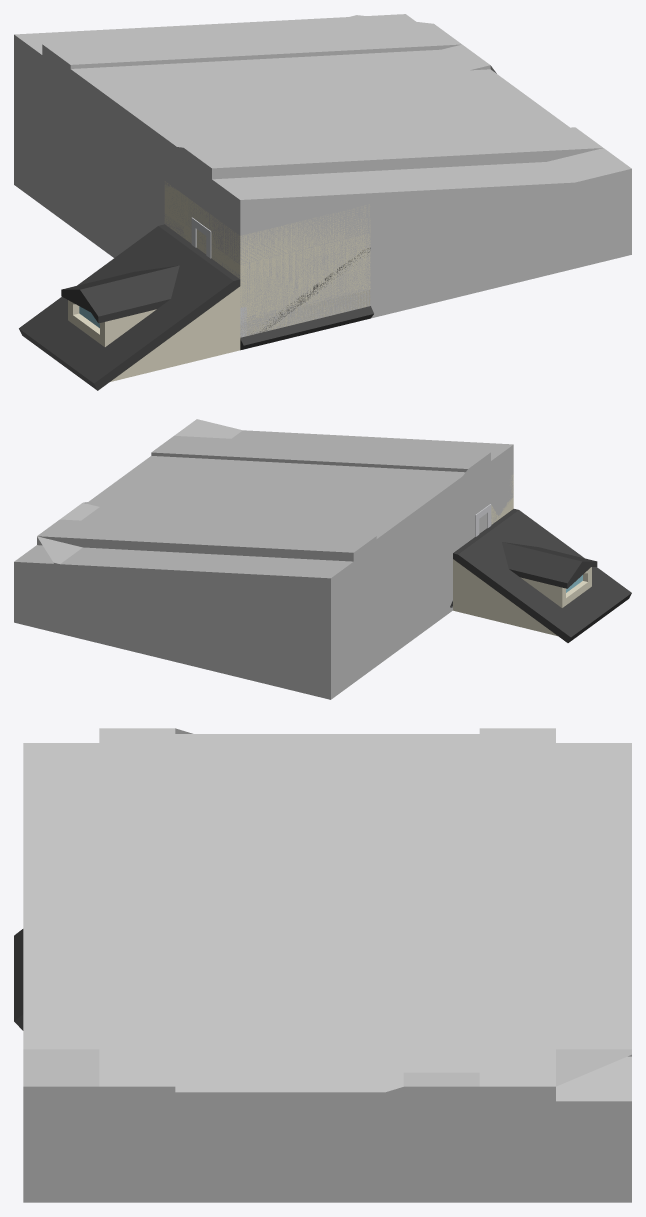
3 renders of one model, top to bottom at view 1: azimuth 30°, elevation 25°; view 2: azimuth 150°, elevation 25°; view 3: azimuth 270°, elevation 25°, orthographic. The views are drawn at different scales.
Visible parts, largest first — view 1: Shape:95, Shape:91, Shape:92, Shape:149, Shape:81, Shape:5, Shape:94, Shape:38, Shape:9, Shape:93, Shape:47, Shape:42 (+16 smaller); view 2: Shape:95, Shape:93, Shape:70, Shape:92, Shape:94, Shape:119, Shape:38, Shape:137, Shape:91, Shape:47, Shape:46, Shape:42 (+10 smaller); view 3: Shape:95, Shape:59, Shape:92, Shape:94, Shape:93, Shape:91, Shape:137, Shape:119, Shape:117, Shape:118, Shape:68, Shape:70 (+9 smaller).
Part boxes in pixels (x1,y1,x2,y2): Shape:95: (70, 49, 569, 192); Shape:91: (212, 162, 631, 272); Shape:92: (42, 44, 602, 245); Shape:149: (240, 168, 631, 334); Shape:81: (240, 186, 631, 334); Shape:5: (164, 181, 370, 318); Shape:94: (43, 24, 461, 68); Shape:38: (19, 226, 233, 383); Shape:9: (165, 211, 370, 337); Shape:93: (14, 14, 415, 129); Shape:47: (110, 286, 240, 381); Shape:42: (61, 265, 179, 323); Shape:95: (81, 456, 467, 571); Shape:93: (14, 545, 353, 638); Shape:70: (14, 562, 353, 699); Shape:92: (151, 435, 490, 616); Shape:94: (37, 519, 375, 561); Shape:119: (14, 568, 376, 699); Shape:38: (459, 510, 631, 637); Shape:137: (60, 419, 512, 665); Shape:91: (232, 430, 513, 519); Shape:47: (453, 559, 557, 636); Shape:46: (453, 509, 631, 642); Shape:42: (502, 542, 597, 588); Shape:95: (175, 734, 479, 1092); Shape:59: (99, 1086, 555, 1202); Shape:92: (99, 728, 192, 1086); Shape:94: (479, 728, 555, 1086); Shape:93: (556, 743, 631, 1101); Shape:91: (23, 743, 99, 1049); Shape:137: (23, 1049, 479, 1202); Shape:119: (479, 1101, 631, 1202); Shape:117: (23, 1101, 175, 1202); Shape:118: (175, 1119, 479, 1202); Shape:68: (23, 1101, 99, 1202); Shape:70: (556, 1101, 631, 1202).
Size of what is drawn, in the model's own units: 4.12 by 1.22 by 3.05.
